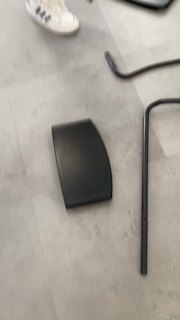Back: (49, 117, 117, 212)
